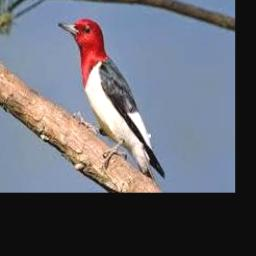Woodpecker: (58, 18, 165, 186)
